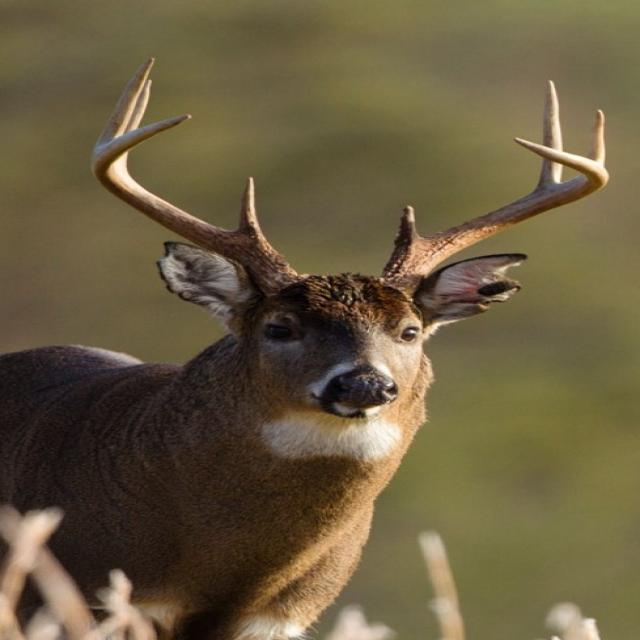L-F: (377, 137, 610, 301)
L-G1: (392, 206, 423, 246)
R-F: (90, 114, 309, 298)
R-G1: (238, 177, 263, 233)
R-G3: (93, 57, 157, 151)
